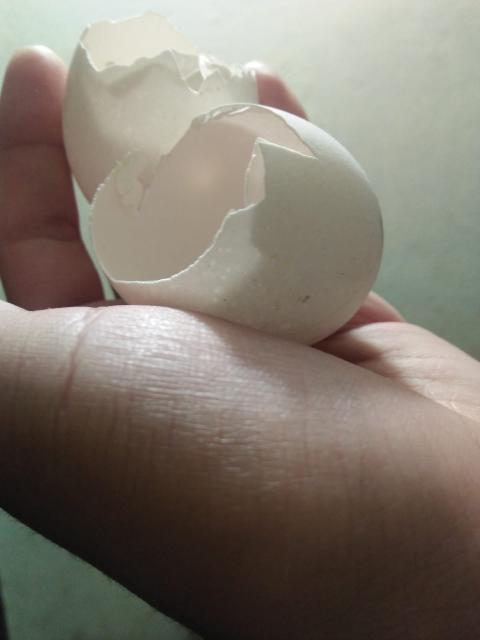Roto: (62, 11, 385, 345)
